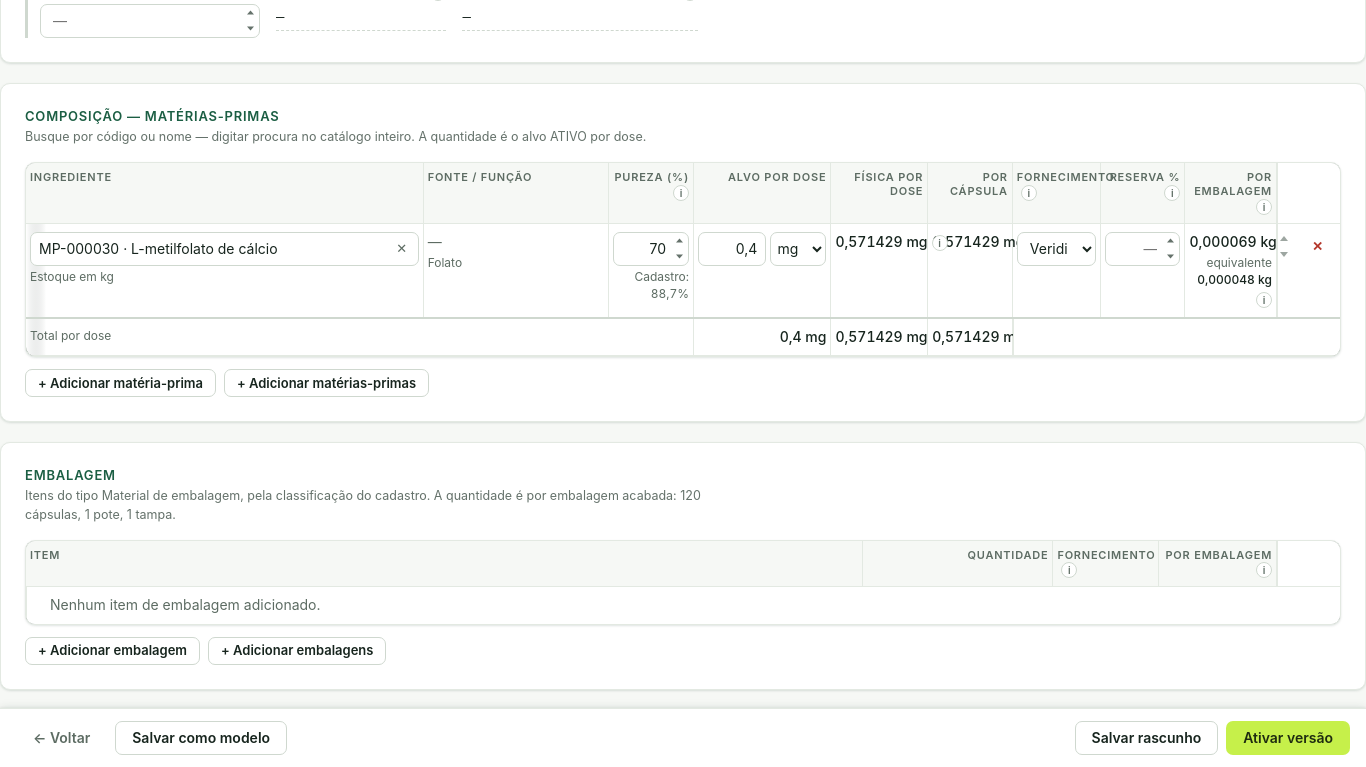
Test: Formulação — Consultar itens na bancada › o autocomplete continua: a lista oferece Consultar, o cadastro e os resultados, e escolher segue igual
(page scrolled)
Click the button "+ Adicionar matéria-prima" at (120, 383), box top-left (25, 369), bottom-right (216, 397)
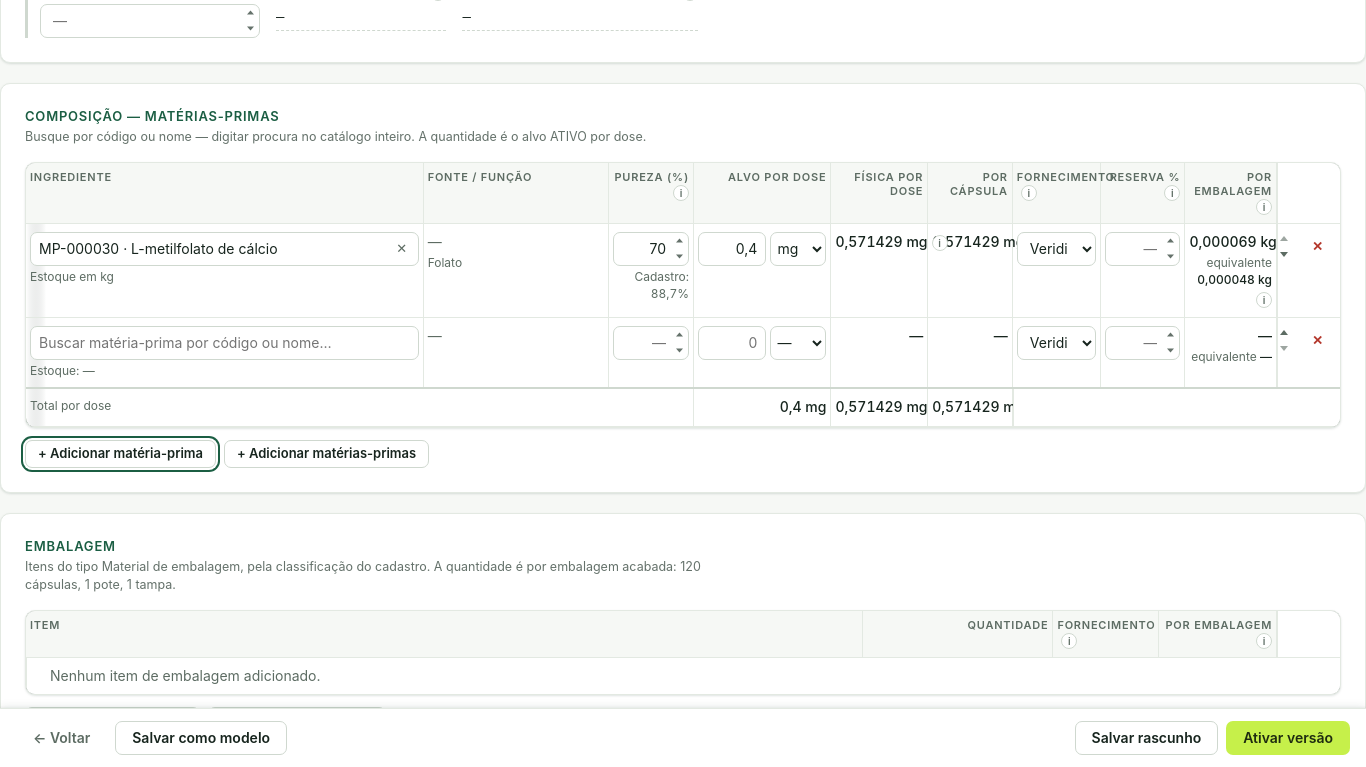
Click the dropdown with placeholder "Buscar matéria-prima por código ou nome…" at (224, 343), box top-left (30, 326), bottom-right (419, 360)
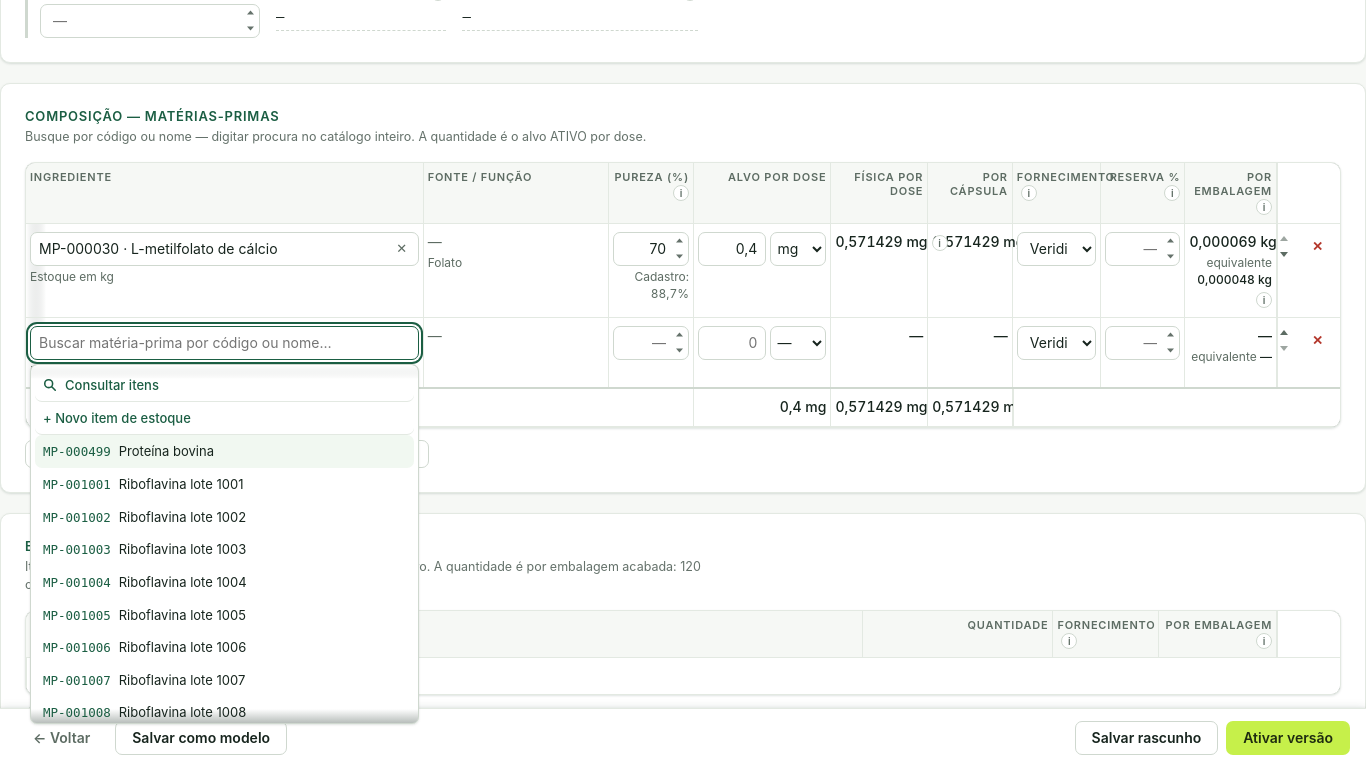
Now the option "MP-000499 Proteína bovina" is shown
Now the option "Consultar itens" is shown, box top-left (35, 369), bottom-right (414, 402)
Now the option "+ Novo item de estoque" is shown, box top-left (35, 402), bottom-right (414, 436)
Click the option "MP-000499 Proteína bovina" at (77, 452), box top-left (35, 435), bottom-right (414, 468)
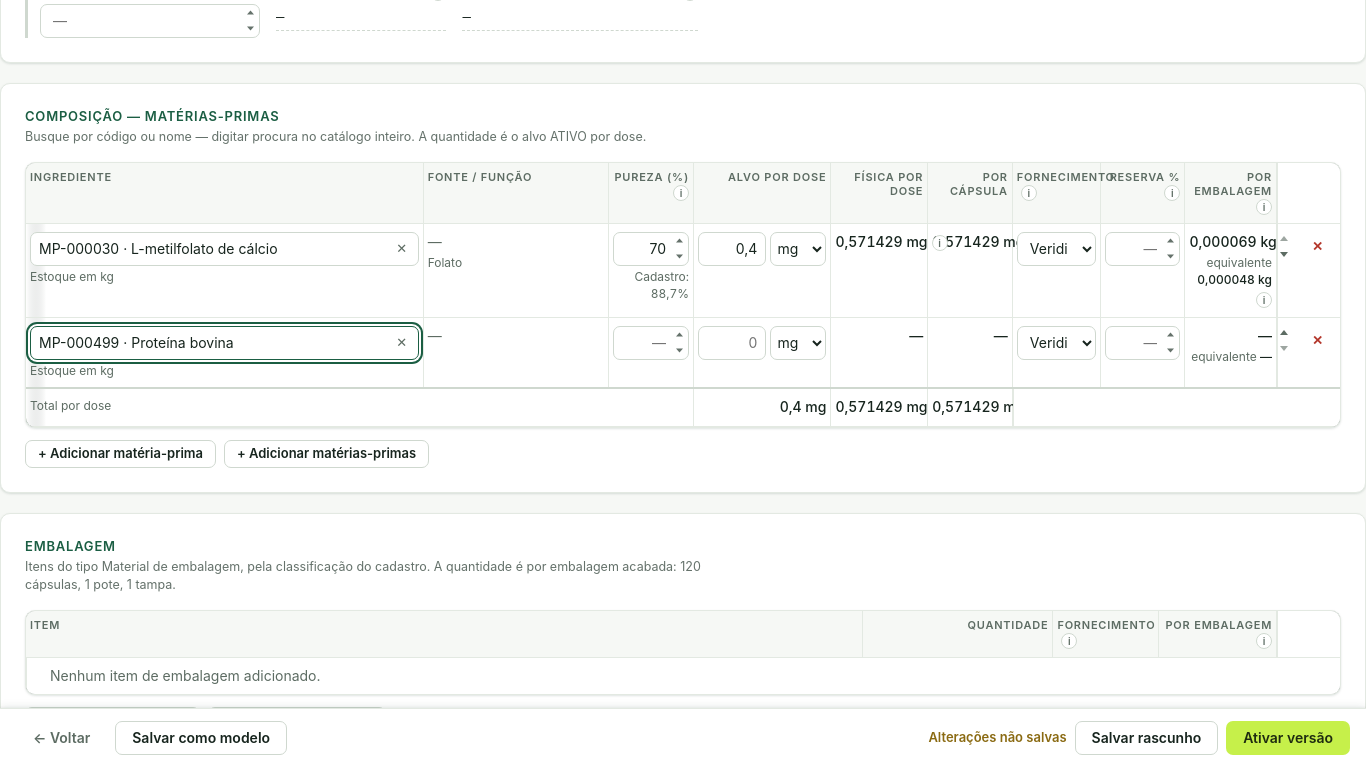
Now the 2nd dropdown with placeholder "Buscar matéria-prima por código ou nome" holds "MP-000499 · Proteína bovina", box top-left (30, 326), bottom-right (419, 360)
